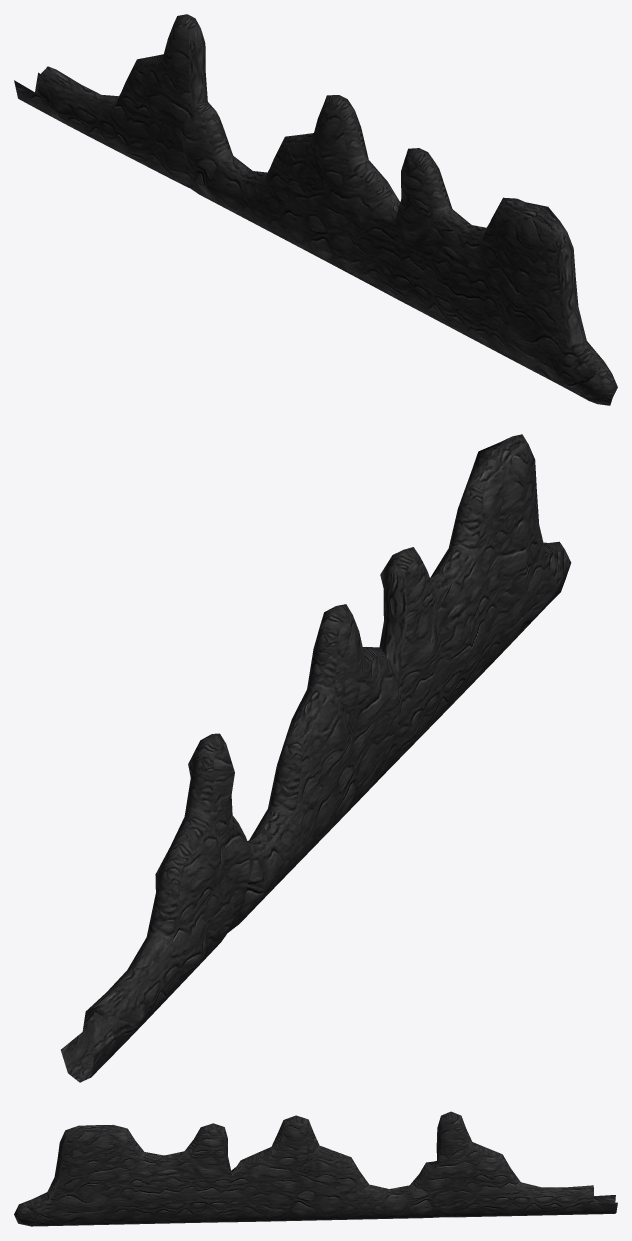
File: BrickWallStraightShape.dae
3 renders of one model, top to bottom at view 1: azimuth 30°, elevation 25°; view 2: azimuth 150°, elevation 25°; view 3: azimuth 270°, elevation 25°, orthographic. The views are drawn at different scales.
Parts seen in each view (by area): view 1: BrickWallStraight; view 2: BrickWallStraight; view 3: BrickWallStraight.
Boxes of the visible parts, bbox=[...] form: BrickWallStraight: bbox=[14, 14, 617, 405]; BrickWallStraight: bbox=[61, 434, 571, 1082]; BrickWallStraight: bbox=[14, 1111, 617, 1226].
Size of the model in its own units: 8.26 by 12.31 by 59.17.
